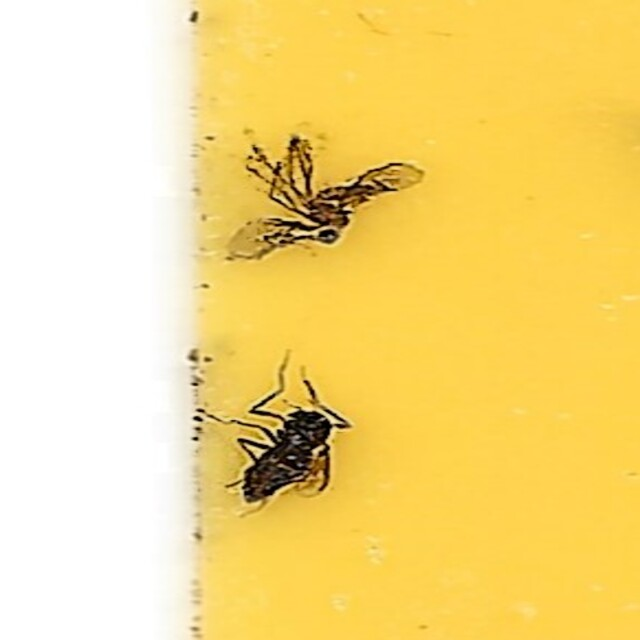Nematocera: (222, 132, 420, 275), (220, 356, 352, 508)
